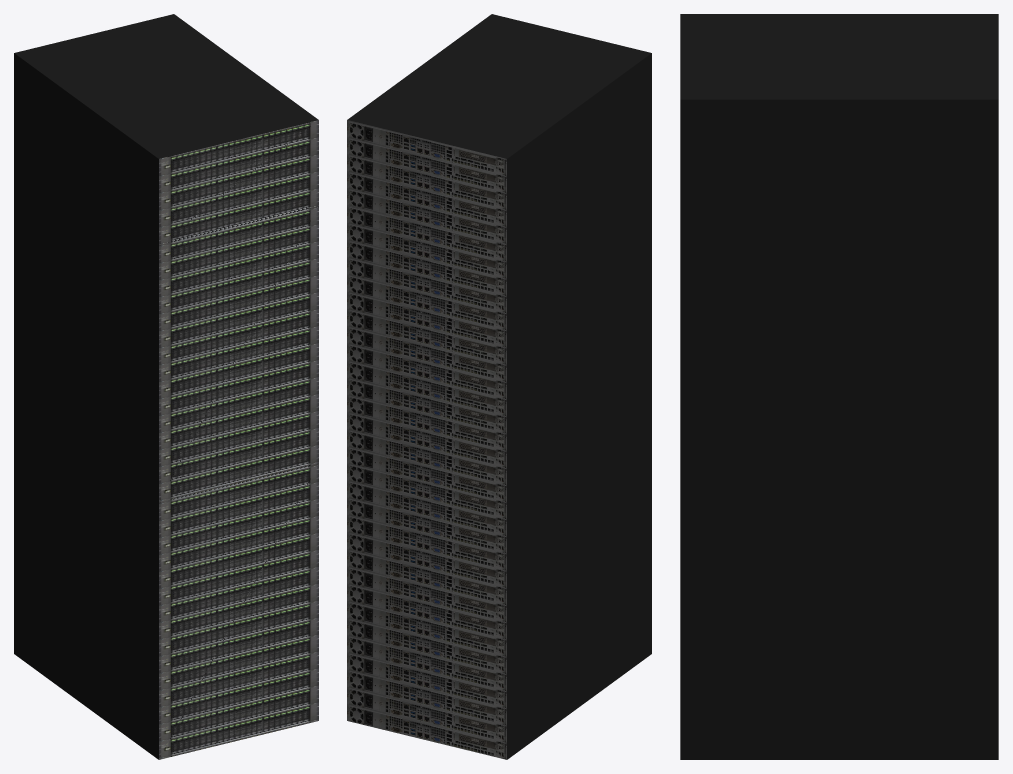
Rendered from WDR35.fbx.
3 renders of one model, left to right at view 1: azimuth 30°, elevation 25°; view 2: azimuth 150°, elevation 25°; view 3: azimuth 270°, elevation 25°, orthographic. The views are drawn at different scales.
Parts seen in each view (by area): view 1: WDR35; view 2: WDR35; view 3: WDR35.
Boxes of the visible parts, <box> form: WDR35: <box>14,14,318,759</box>; WDR35: <box>347,14,651,759</box>; WDR35: <box>680,14,998,759</box>.
Bounding box in the file's own units: 434 × 1558 × 680.
3 materials, 2 textured.
